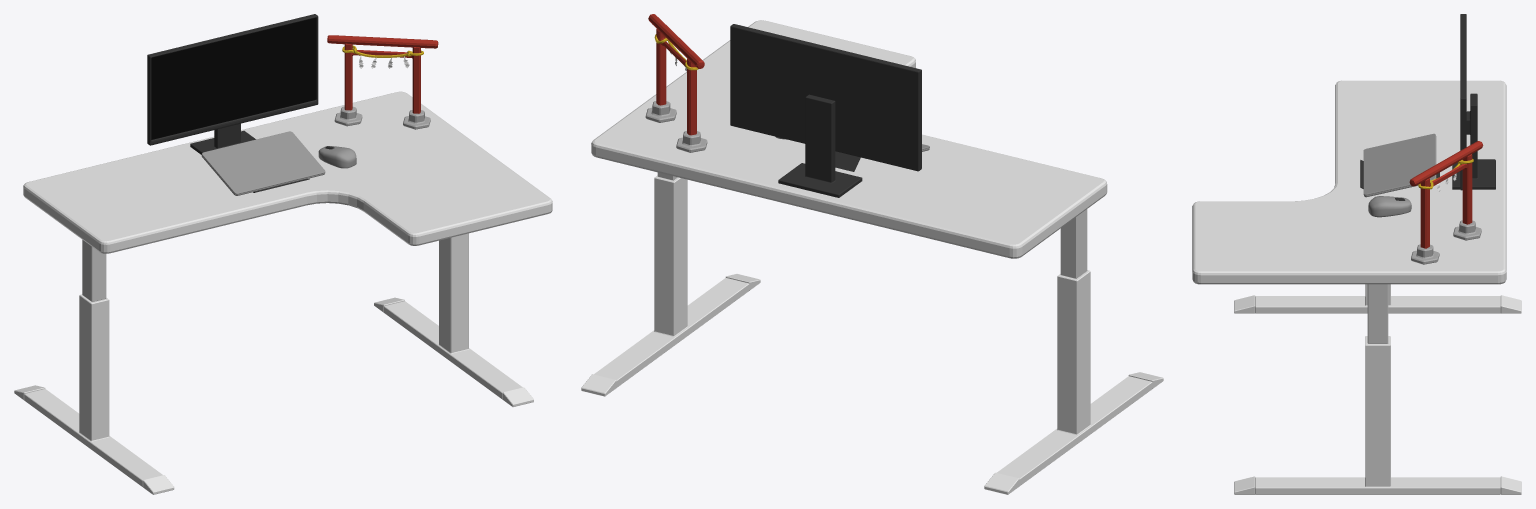
The picture shows the model from 3 angles, left to right: view 1: azimuth 30°, elevation 25°; view 2: azimuth 150°, elevation 25°; view 3: azimuth 270°, elevation 25°; orthographic projection. The views are drawn at different scales.
Visible parts, largest first — view 1: desk-plane, Plane.008, Cube, Plane.003, Plane.001, torii-pillars, Cube.002, Cube.001, torii-tie-beam, Plane, torii-base, Plane.006; view 2: desk-plane, Plane.001, Cube, Plane, Cube.002, Cube.001, torii-pillars, torii-base, torii-tie-beam; view 3: desk-plane, Cube, Plane.003, torii-pillars, Cube.001, Plane, Cube.002, Plane.001, torii-base, Plane.006, torii-tie-beam.
Boxes of the visible parts, x1,y1,x2,y2 form: desk-plane: (23, 91, 552, 253); Plane.008: (151, 17, 316, 139); Cube: (24, 233, 522, 487); Plane.003: (201, 131, 325, 194); Plane.001: (147, 14, 318, 145); torii-pillars: (344, 43, 420, 113); Cube.002: (82, 240, 106, 301); Cube.001: (14, 297, 533, 494); torii-tie-beam: (327, 35, 438, 48); Plane: (190, 123, 255, 154); torii-base: (334, 106, 430, 129); Plane.006: (318, 146, 356, 168); desk-plane: (591, 20, 1107, 258); Plane.001: (730, 24, 921, 171); Cube: (594, 175, 1152, 486); Plane: (778, 94, 862, 197); Cube.002: (657, 172, 1087, 278); Cube.001: (581, 274, 1163, 494); torii-pillars: (656, 29, 696, 135); torii-base: (645, 101, 707, 152); torii-tie-beam: (648, 14, 704, 68); desk-plane: (1192, 80, 1506, 284); Cube: (1255, 284, 1500, 494); Plane.003: (1363, 133, 1435, 195); torii-pillars: (1420, 154, 1472, 248); Cube.001: (1234, 295, 1521, 494); Plane: (1452, 93, 1495, 189); Cube.002: (1367, 284, 1388, 343); Plane.001: (1460, 14, 1466, 190); torii-base: (1411, 220, 1481, 264); Plane.006: (1368, 196, 1411, 217); torii-tie-beam: (1409, 141, 1483, 186).
Bounding box in the file's own units: 1.6 × 1.33 × 1.15.
